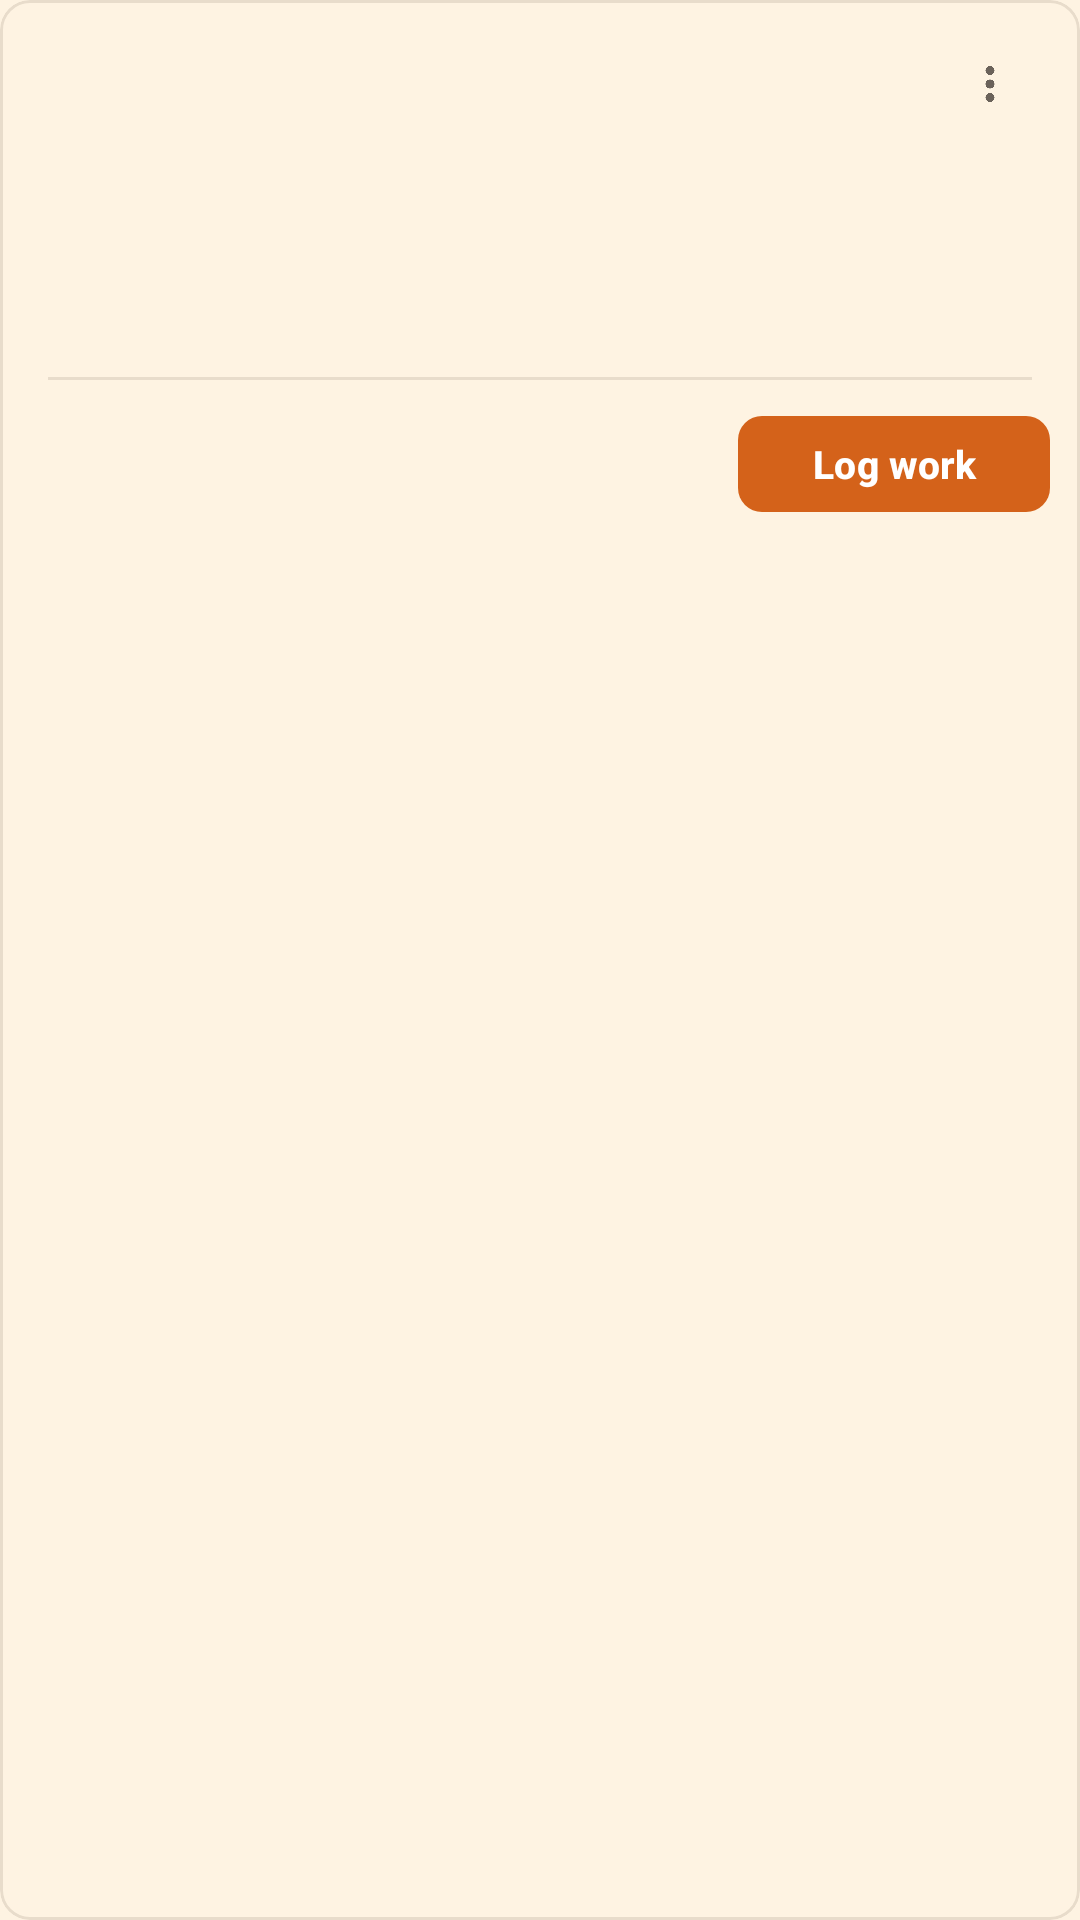

Screen size 1080w x 1920h. Icon name, then its center in pixels as (x,y):
More actions: (990,84)
